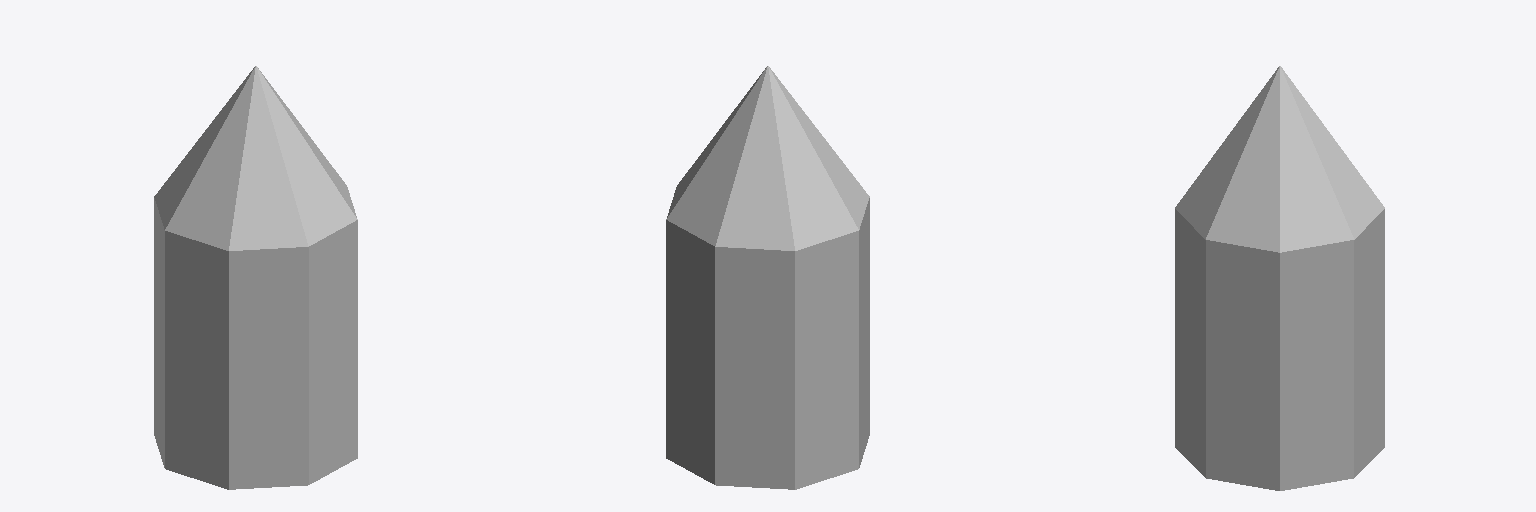
Rendered from 04.CylinderCone8Sides.obj.
3 views of the same model, side by side, from view 1: azimuth 30°, elevation 25°; view 2: azimuth 150°, elevation 25°; view 3: azimuth 270°, elevation 25° (orthographic).
Parts seen in each view (by area): view 1: default; view 2: default; view 3: default.
Boxes of the visible parts, x1=… form: default: x1=154, y1=66, x2=357, y2=489; default: x1=666, y1=66, x2=869, y2=489; default: x1=1175, y1=66, x2=1384, y2=490.
Bounding box in the file's own units: 8 × 16 × 8.